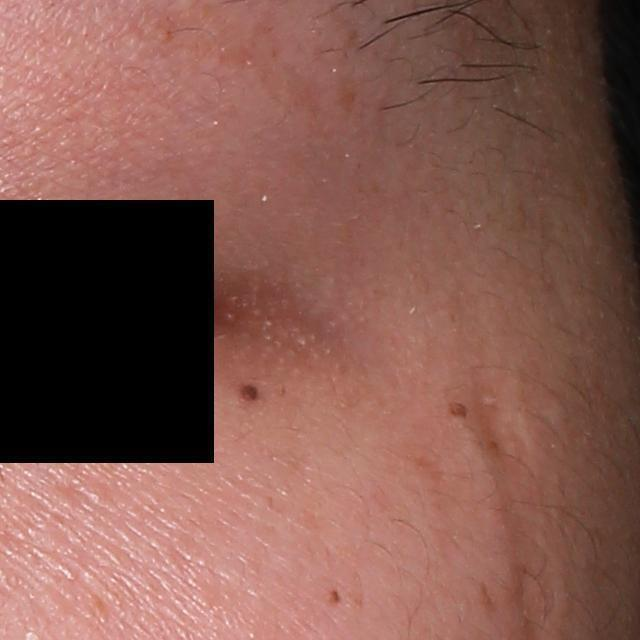nevus: (233, 379, 267, 406), (327, 583, 347, 607)
